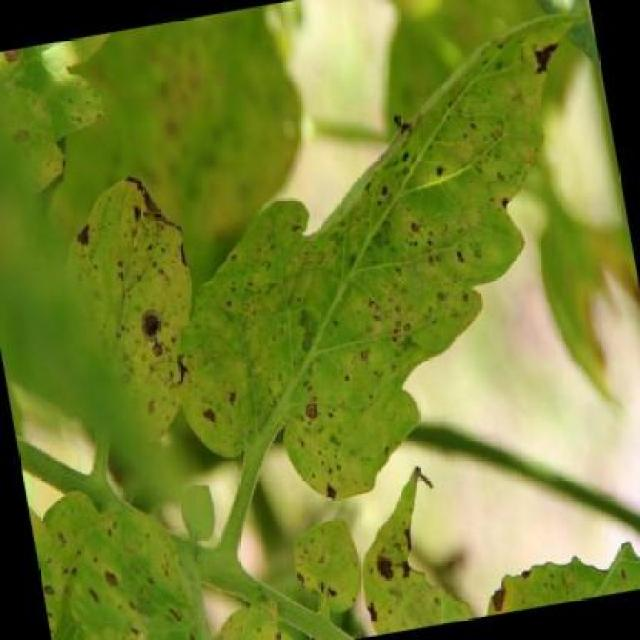Tomato leaf bacterial spot: (129, 24, 587, 524), (55, 160, 229, 517)
